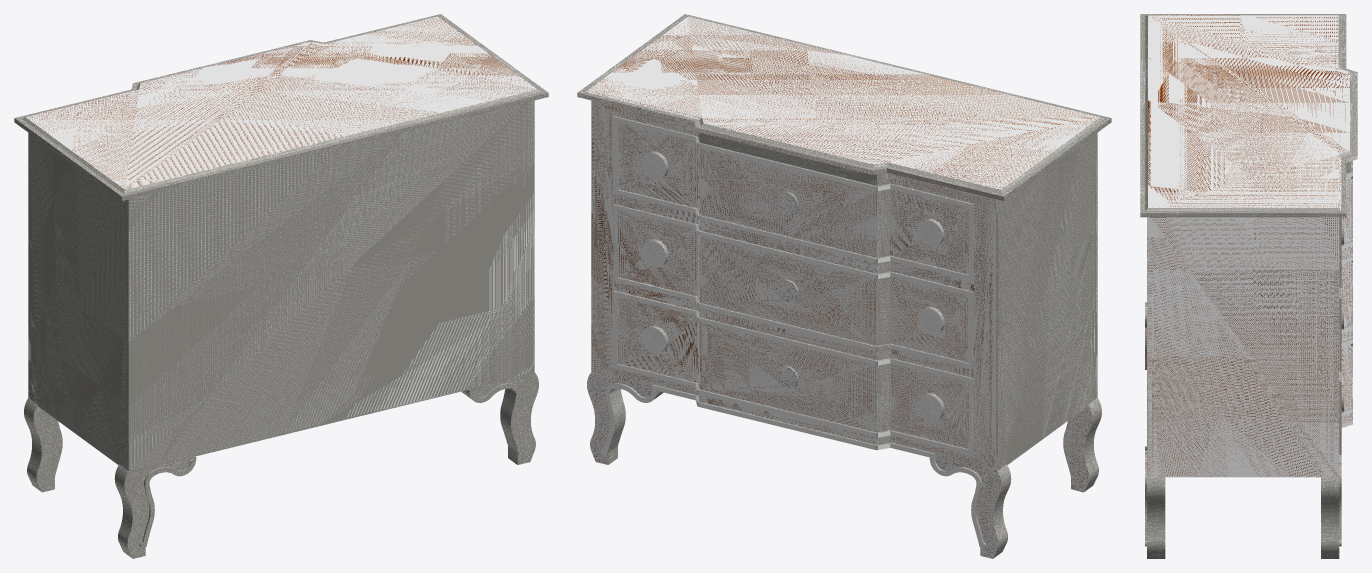
3 views of the same model, side by side, from view 1: azimuth 30°, elevation 25°; view 2: azimuth 150°, elevation 25°; view 3: azimuth 270°, elevation 25° (orthographic). The views are drawn at different scales.
Visible parts, largest first — view 1: mesh1_mesh1-geometry; view 2: mesh1_mesh1-geometry; view 3: mesh1_mesh1-geometry.
Boxes of the visible parts, box(x1,y1,x2,y2) form: mesh1_mesh1-geometry: box(14, 14, 548, 558); mesh1_mesh1-geometry: box(577, 14, 1111, 558); mesh1_mesh1-geometry: box(1140, 14, 1357, 558).
Bounding box in the file's own units: 0.7251 × 0.6019 × 0.3344.
